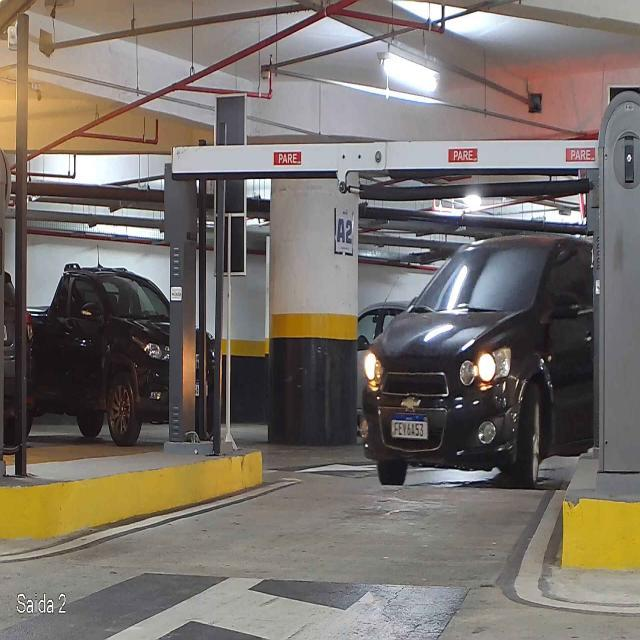mercosul_plate: (390, 415, 429, 440)
